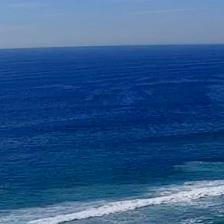surfer: (188, 183, 194, 186), (178, 166, 181, 170), (64, 186, 67, 188)
